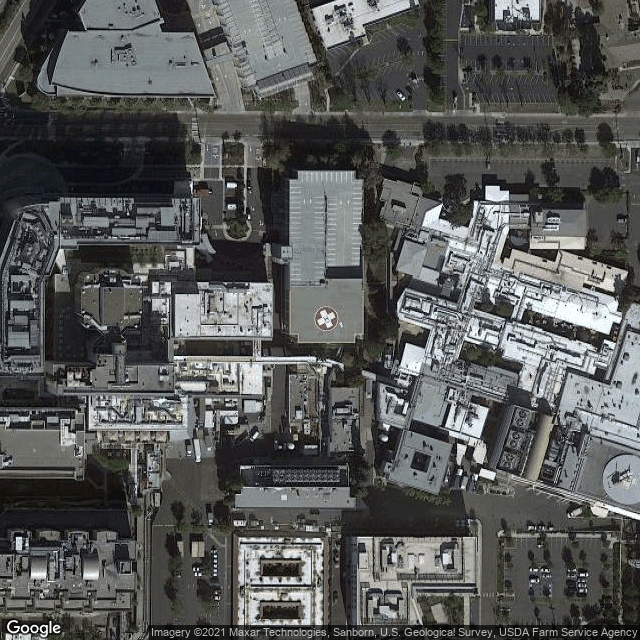Helipad: (605, 450, 639, 505), (312, 302, 341, 334)
